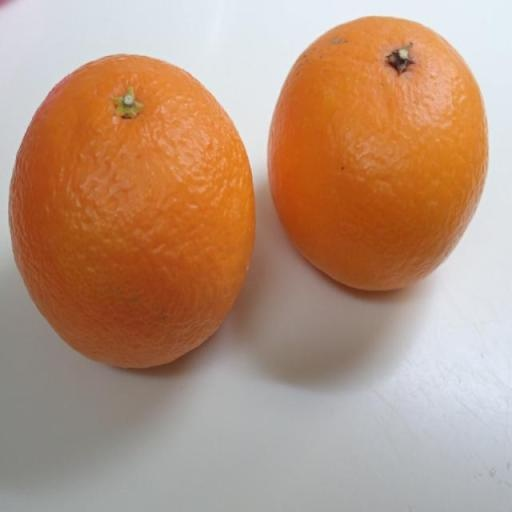fruit: (10, 56, 254, 367), (268, 17, 487, 289)
